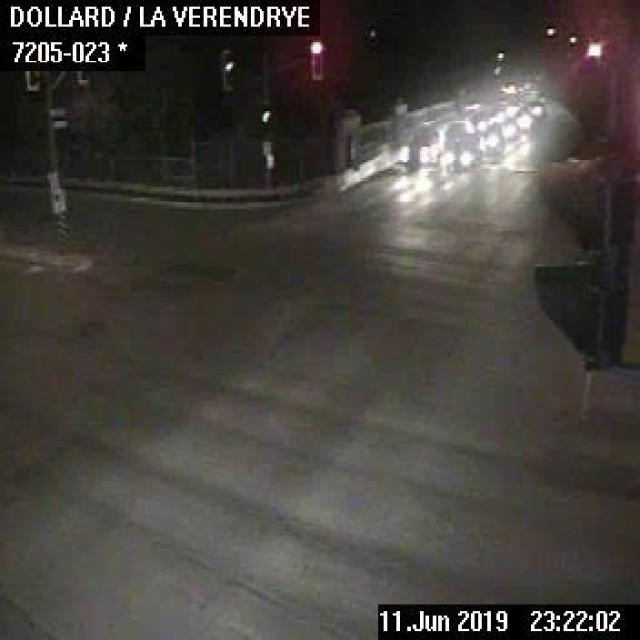vehicle: (389, 124, 440, 169), (440, 136, 480, 170), (478, 124, 504, 157)
